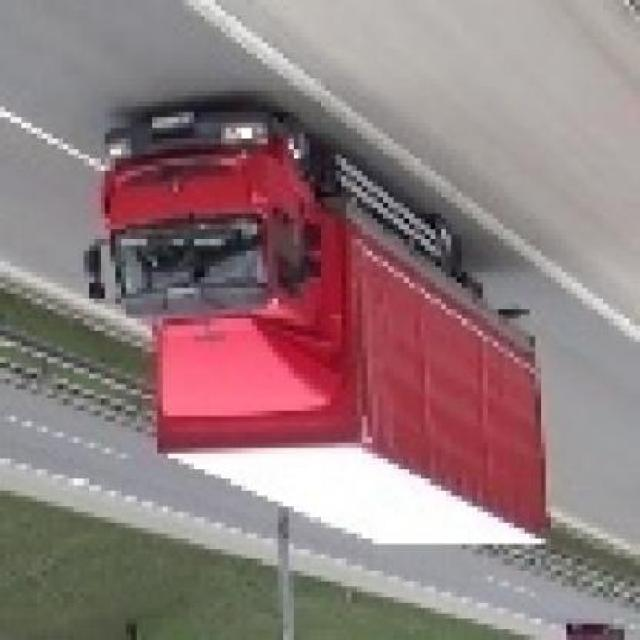truck: (80, 107, 547, 561)
